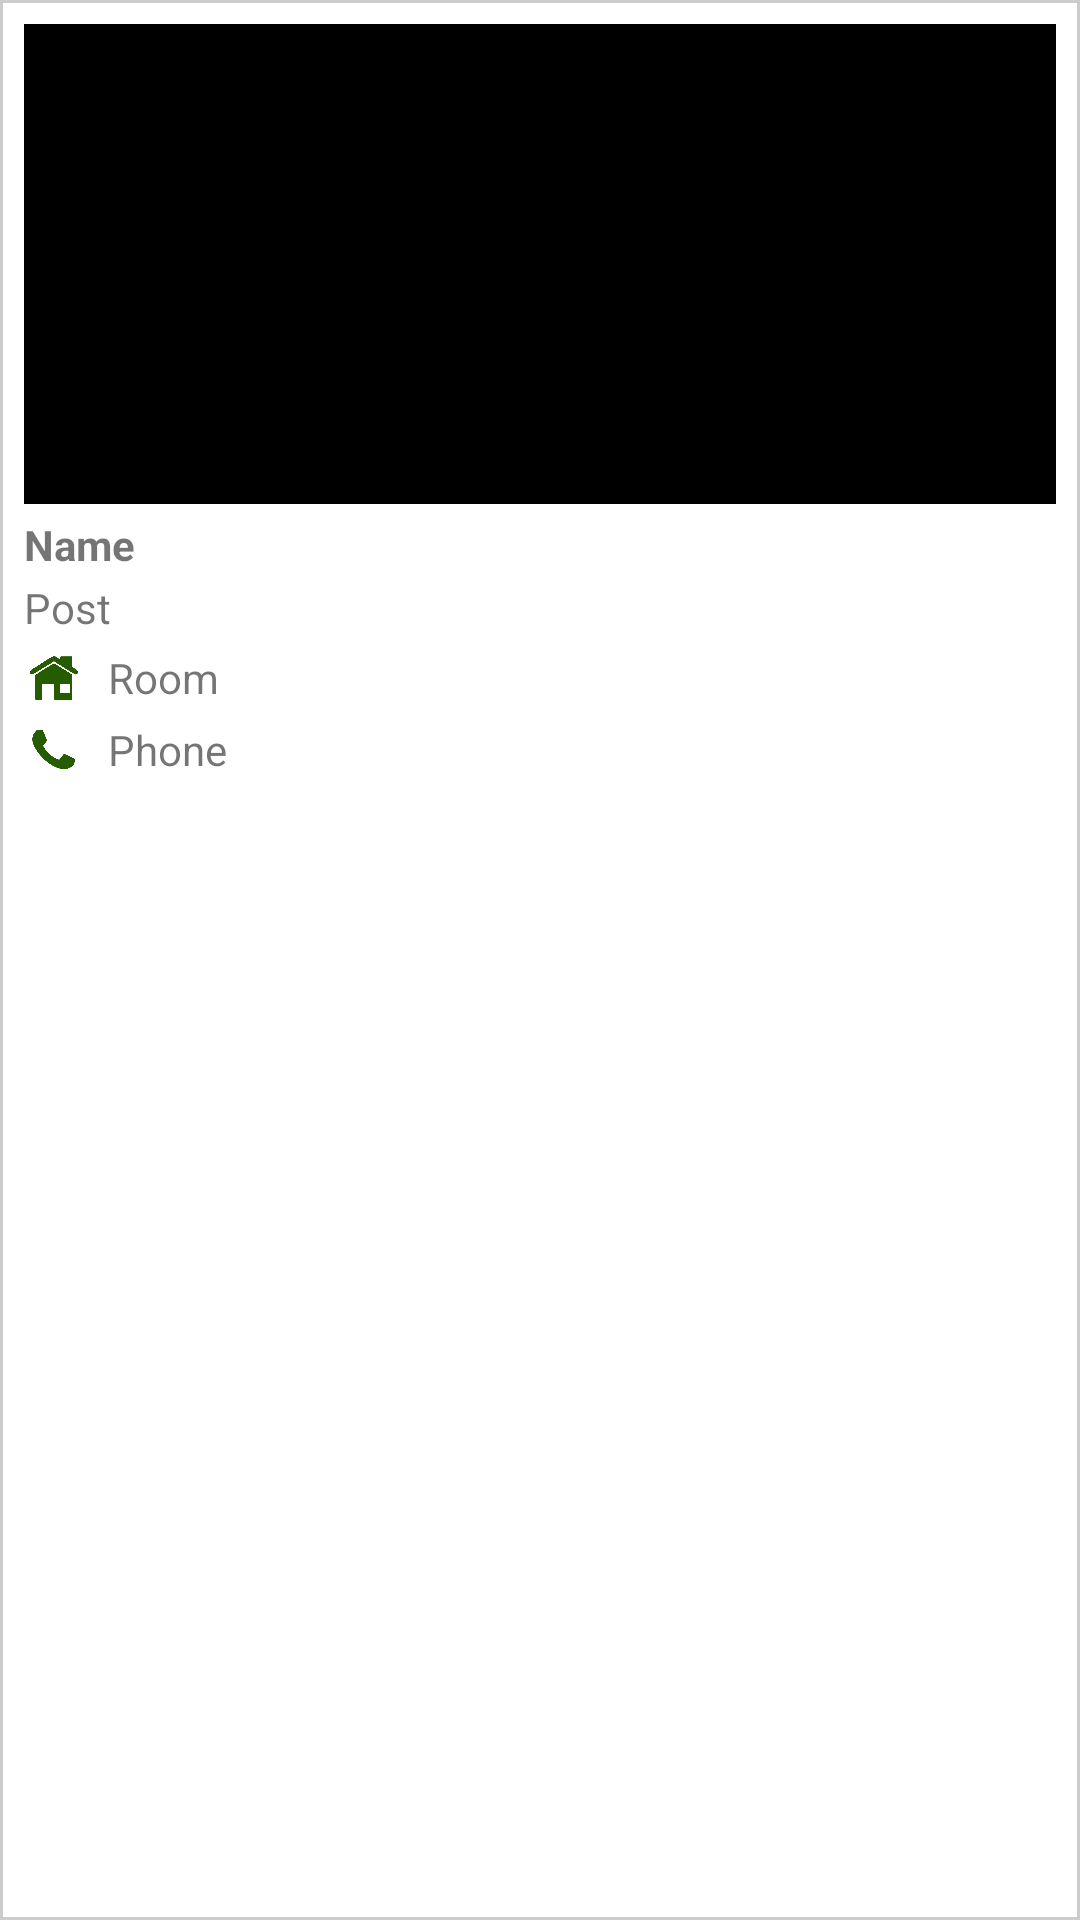

Point at icon controls on the screen. Image size 1080w x 1920h, points as [x,y].
call: [53,749]
home: [54,678]
